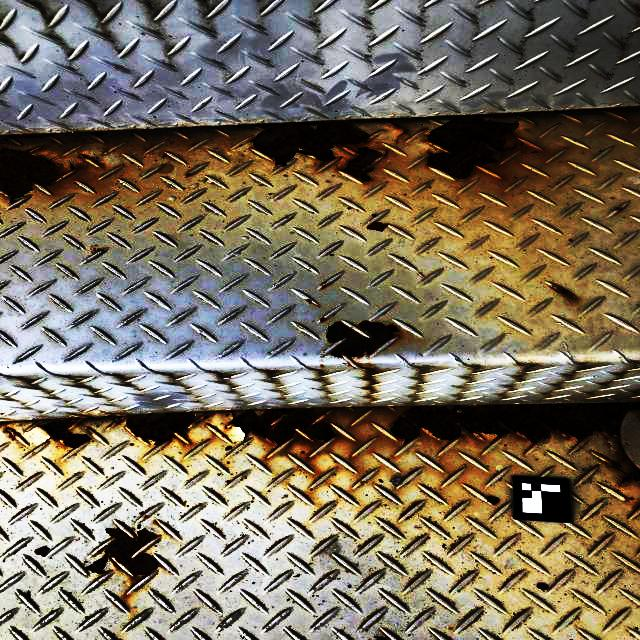Corrosion: (390, 402, 640, 485), (428, 115, 519, 179), (250, 121, 370, 166), (0, 147, 75, 203), (228, 408, 337, 446), (86, 528, 159, 581), (326, 320, 400, 358), (126, 412, 196, 445), (337, 147, 390, 181), (38, 418, 91, 448), (382, 120, 411, 144), (550, 284, 576, 298), (80, 153, 101, 163), (372, 634, 390, 640), (319, 316, 327, 323), (320, 284, 327, 288), (307, 298, 313, 302)
